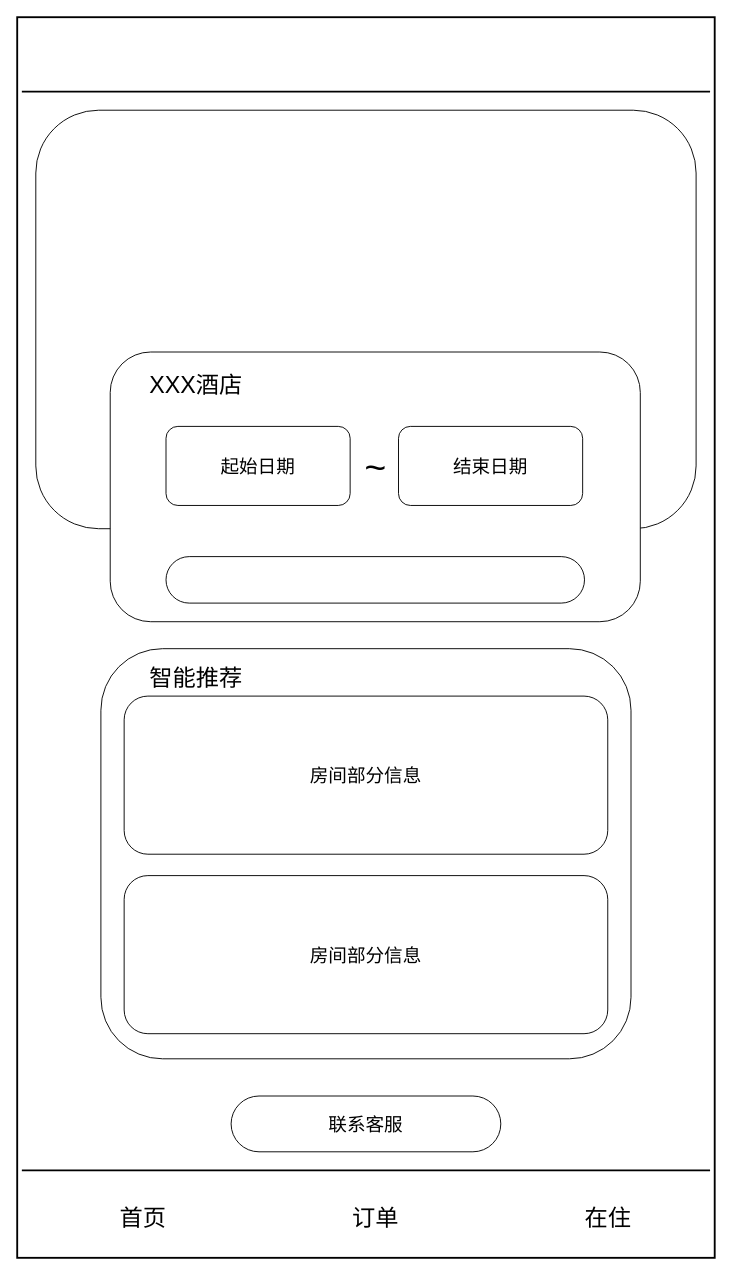
Some shapes in this 731 by 1274 pixel diagram are drawn without their labels. Each missing label, with the box of its shape:
查询房间: (165, 556, 585, 603)
背景图: (35, 109, 696, 529)
